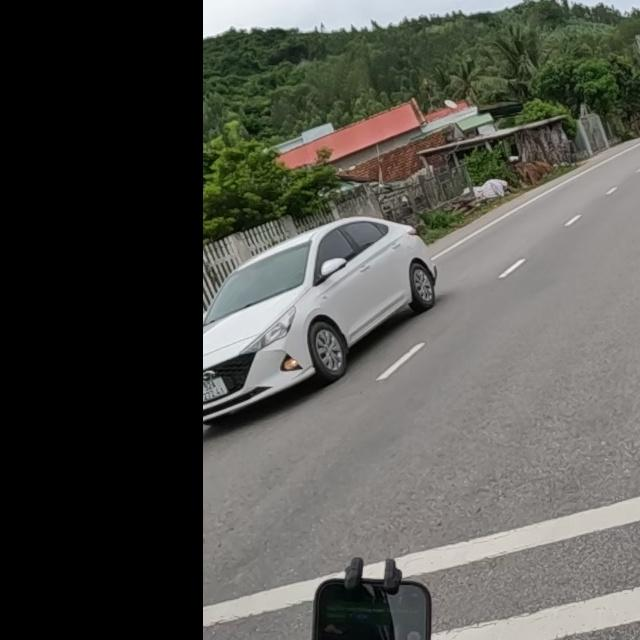license-plate: (202, 376, 229, 402)
